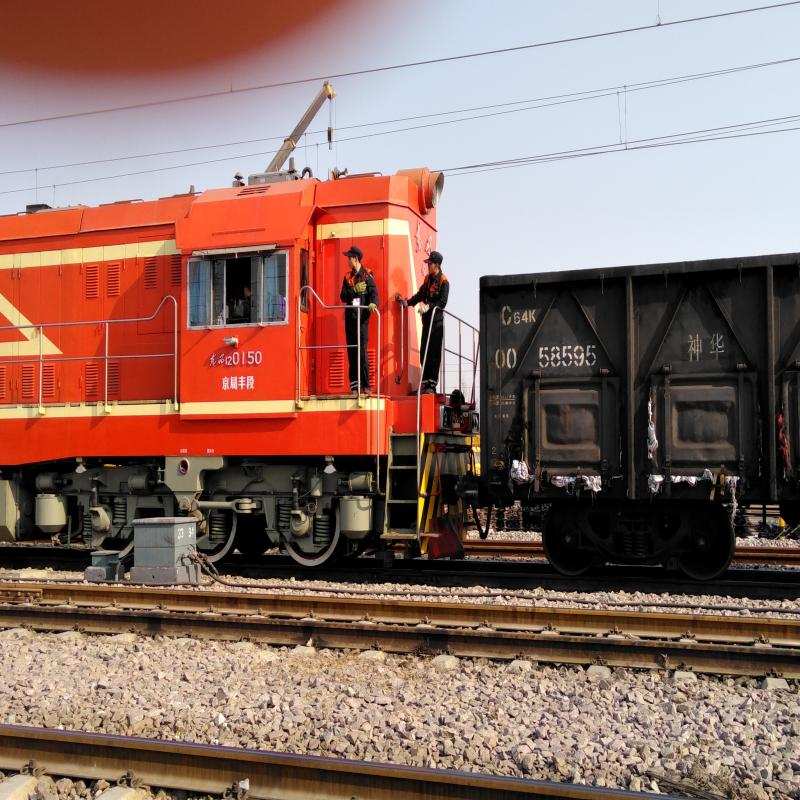train: (3, 210, 339, 564), (474, 271, 794, 581)
